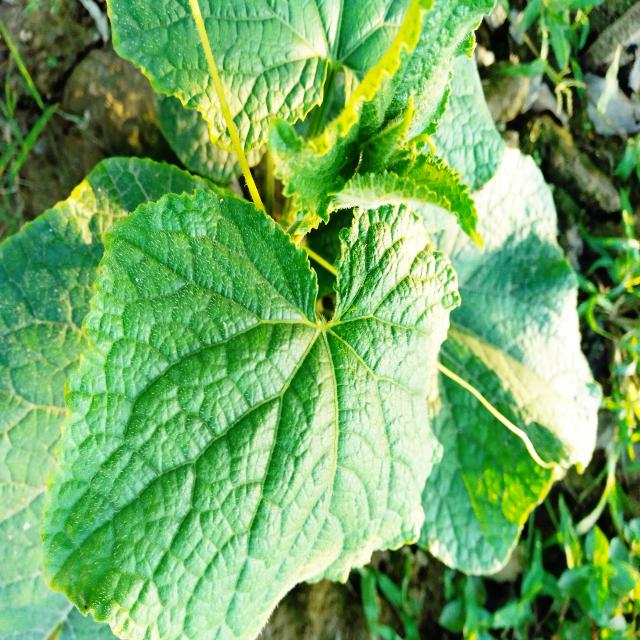Fresh-Leaf: (38, 190, 460, 639)
